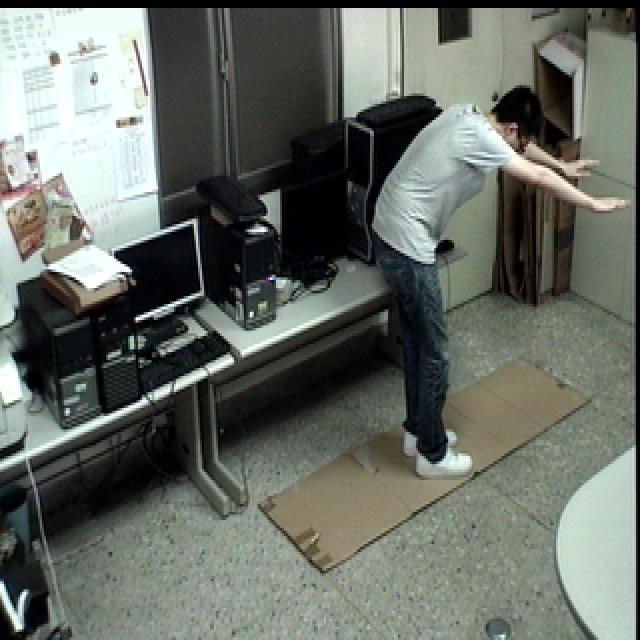bend: (367, 80, 636, 481)
